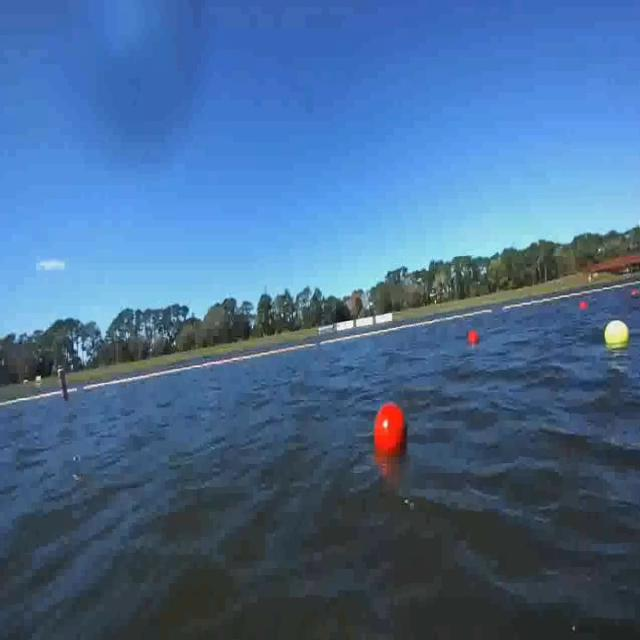red-buoy: (374, 403, 406, 457), (470, 332, 482, 348), (578, 302, 587, 312), (632, 290, 639, 296)
yellow-buoy: (606, 322, 632, 350)
